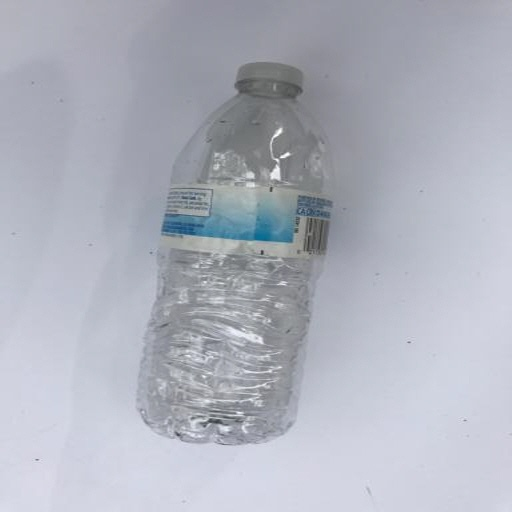Plastic_0: (142, 61, 334, 446)
